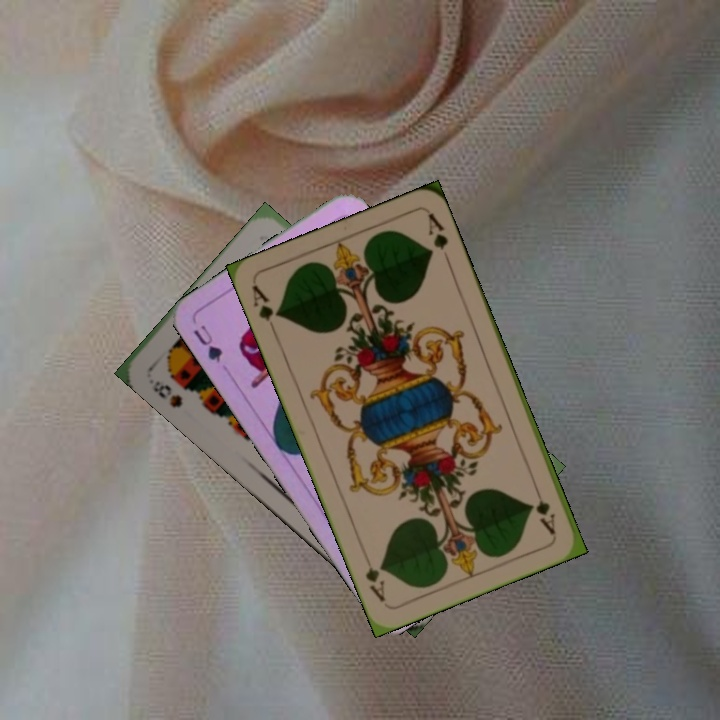GA: (248, 281, 283, 337), (529, 481, 558, 538)
GU: (189, 320, 225, 365)
S8: (148, 376, 186, 411)
